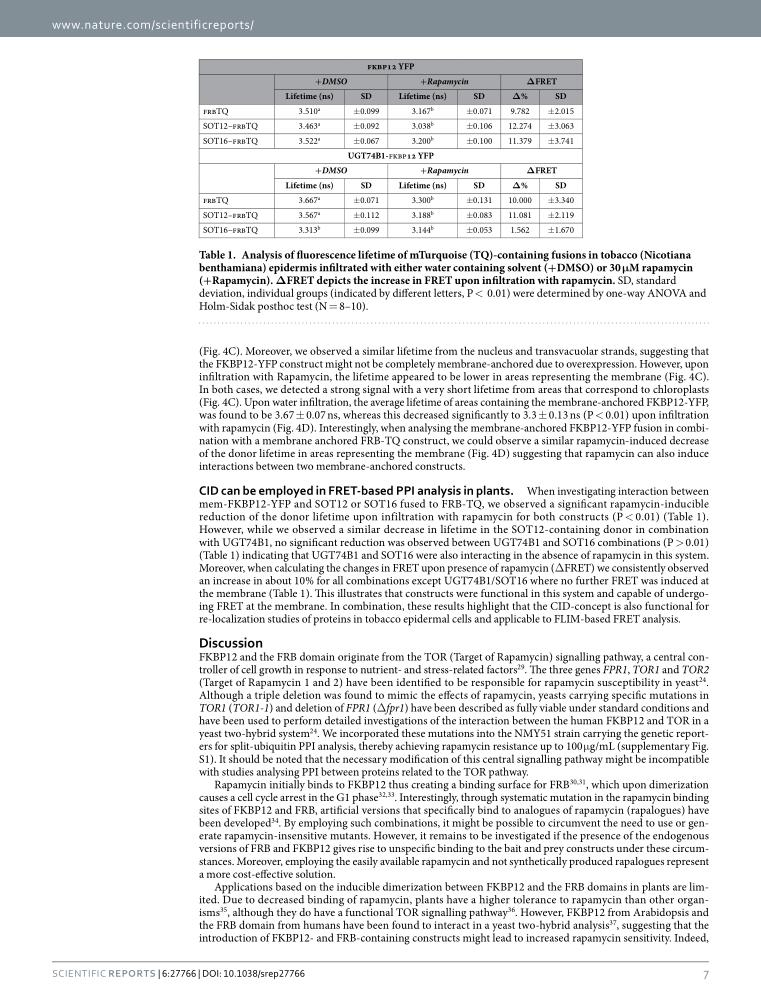table: (202, 60, 573, 236)
